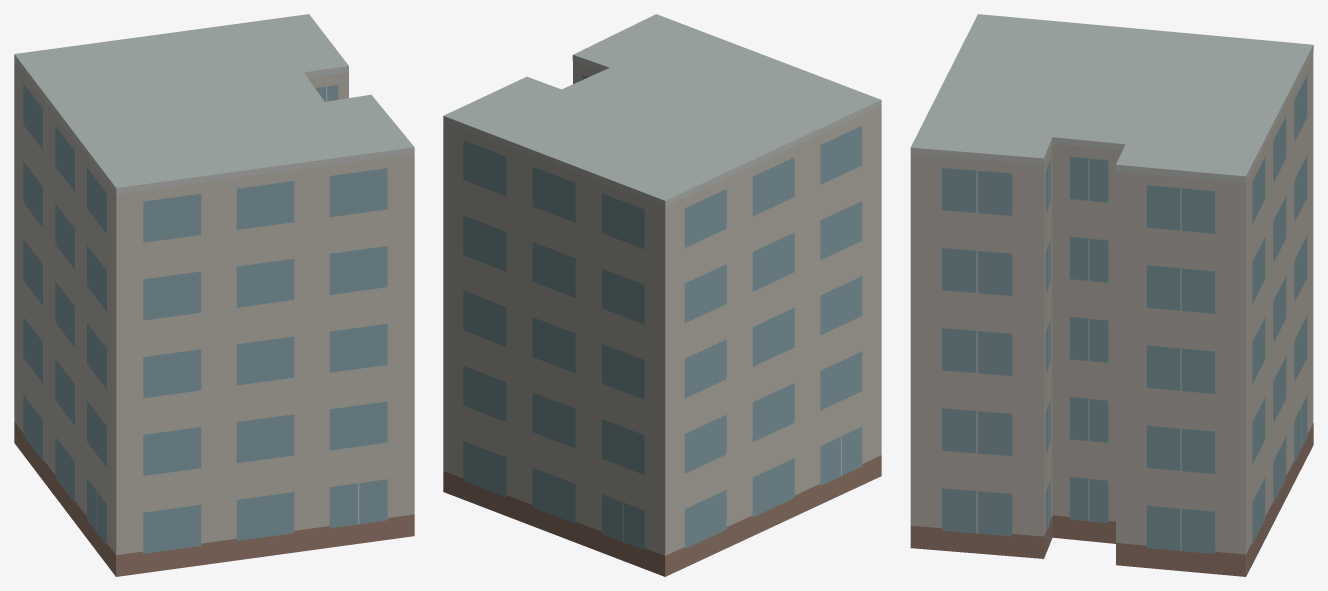
File: survey-upis-32969874.glb
The picture shows the model from 3 angles, left to right: view 1: azimuth 30°, elevation 25°; view 2: azimuth 150°, elevation 25°; view 3: azimuth 270°, elevation 25°; orthographic projection. The views are drawn at different scales.
Visible parts, largest first — view 1: survey-upis-32969874.tmp; view 2: survey-upis-32969874.tmp; view 3: survey-upis-32969874.tmp.
Part boxes in pixels (x1=…): survey-upis-32969874.tmp: x1=14, y1=14, x2=414, y2=576; survey-upis-32969874.tmp: x1=443, y1=14, x2=881, y2=576; survey-upis-32969874.tmp: x1=910, y1=14, x2=1313, y2=576.
Size of the model in its own units: 13.14 by 15.1 by 13.78.
